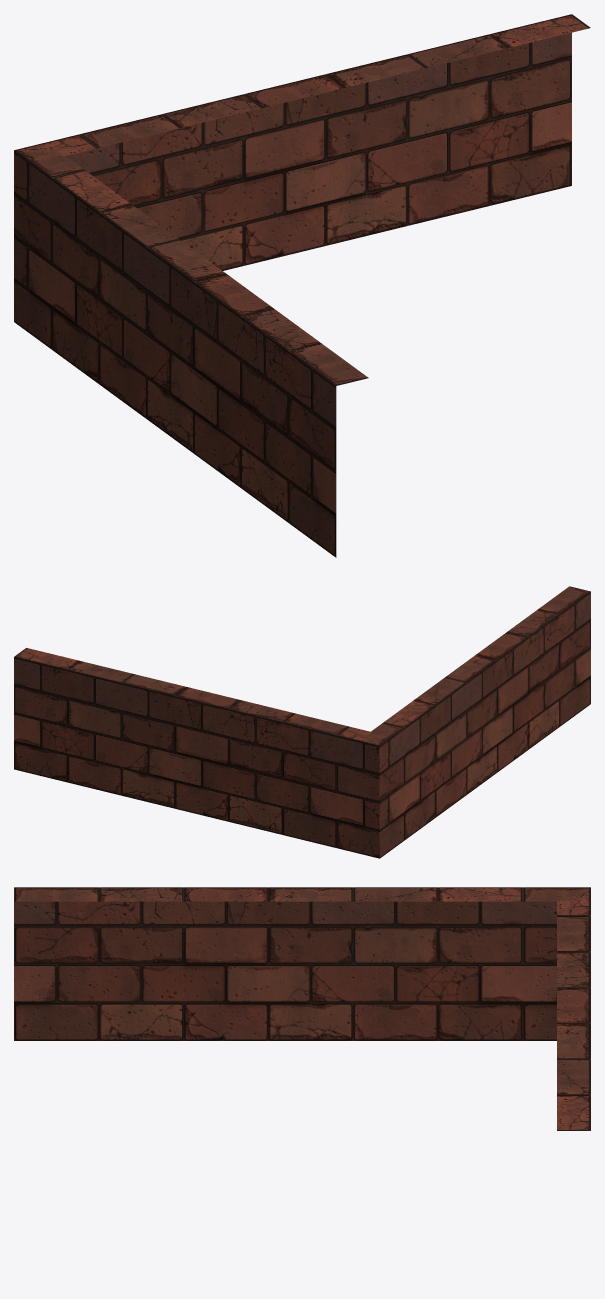
File: foundation02_corner.fbx
The picture shows the model from 3 angles, top to bottom: view 1: azimuth 30°, elevation 25°; view 2: azimuth 150°, elevation 25°; view 3: azimuth 270°, elevation 25°; orthographic projection. The views are drawn at different scales.
Parts seen in each view (by area): view 1: foundation02_corner; view 2: foundation02_corner; view 3: foundation02_corner.
Boxes of the visible parts, x1,y1,x2,y2 form: foundation02_corner: (14,14,590,557); foundation02_corner: (14,586,590,858); foundation02_corner: (14,887,590,1130).
Size of the model in its own units: 340 by 100 by 340.
